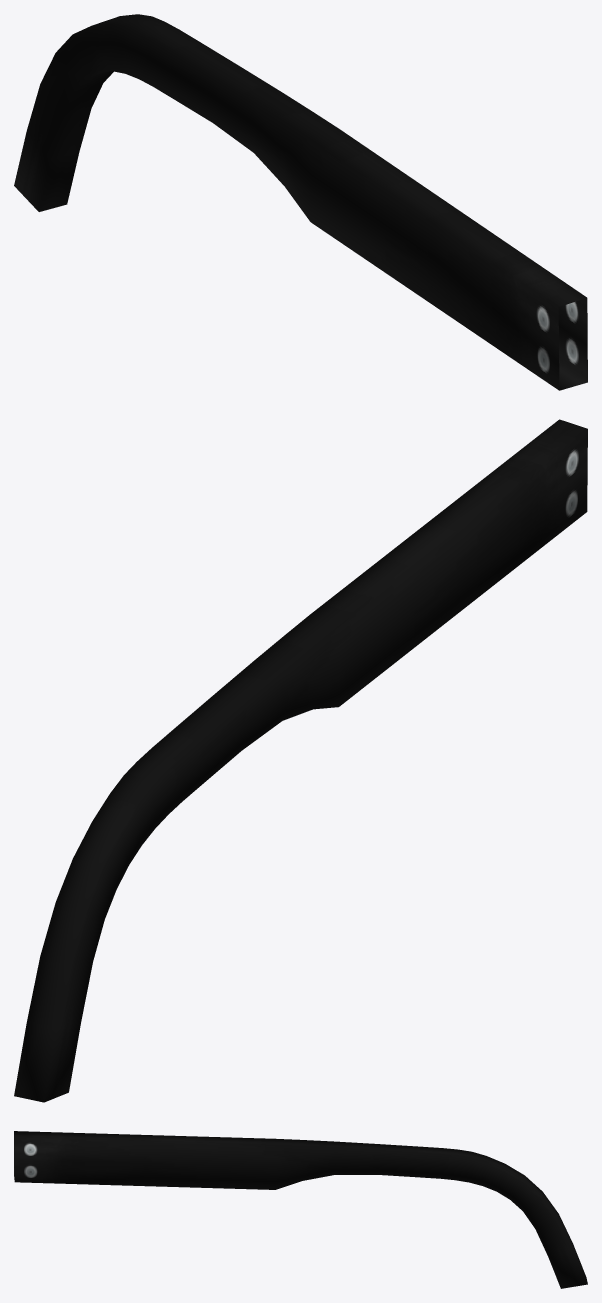
Rendered from glasses_01_left_hinge.obj.
3 views of the same model, one above another, from view 1: azimuth 30°, elevation 25°; view 2: azimuth 150°, elevation 25°; view 3: azimuth 270°, elevation 25° (orthographic). The views are drawn at different scales.
Visible parts, largest first — view 1: Glasses.002; view 2: Glasses.002; view 3: Glasses.002.
Part boxes in pixels (box(x1,y1,x2,y2)): Glasses.002: box(14, 14, 587, 390); Glasses.002: box(14, 419, 587, 1102); Glasses.002: box(14, 1131, 587, 1288).
Size of the model in its own units: 0.00341 by 0.0314 by 0.1079.
1 material, 1 textured.
